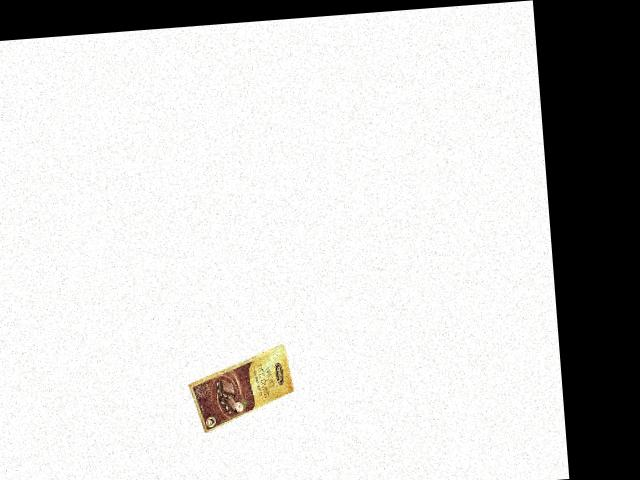chocolate: (176, 340, 297, 434)
